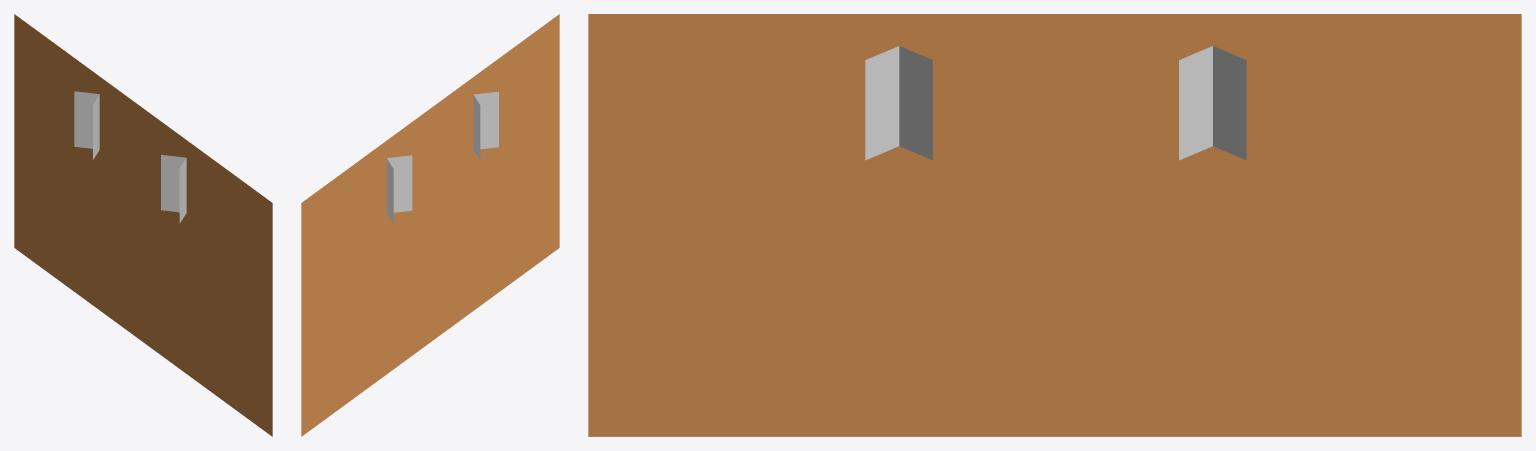
Rendered from Fence_BH_20201_01.fbx.
3 renders of one model, left to right at view 1: azimuth 30°, elevation 25°; view 2: azimuth 150°, elevation 25°; view 3: azimuth 270°, elevation 25°, orthographic. The views are drawn at different scales.
Visible parts, largest first — view 1: Fence_BH_20201_01; view 2: Fence_BH_20201_01; view 3: Fence_BH_20201_01.
Part boxes in pixels (left/top/right/bottom): Fence_BH_20201_01: left=14, top=14, right=272, bottom=436; Fence_BH_20201_01: left=301, top=14, right=559, bottom=436; Fence_BH_20201_01: left=588, top=14, right=1521, bottom=436.
Bounding box in the file's own units: 7.25 × 50 × 100.
Materials: 1 (1 with a texture image).
